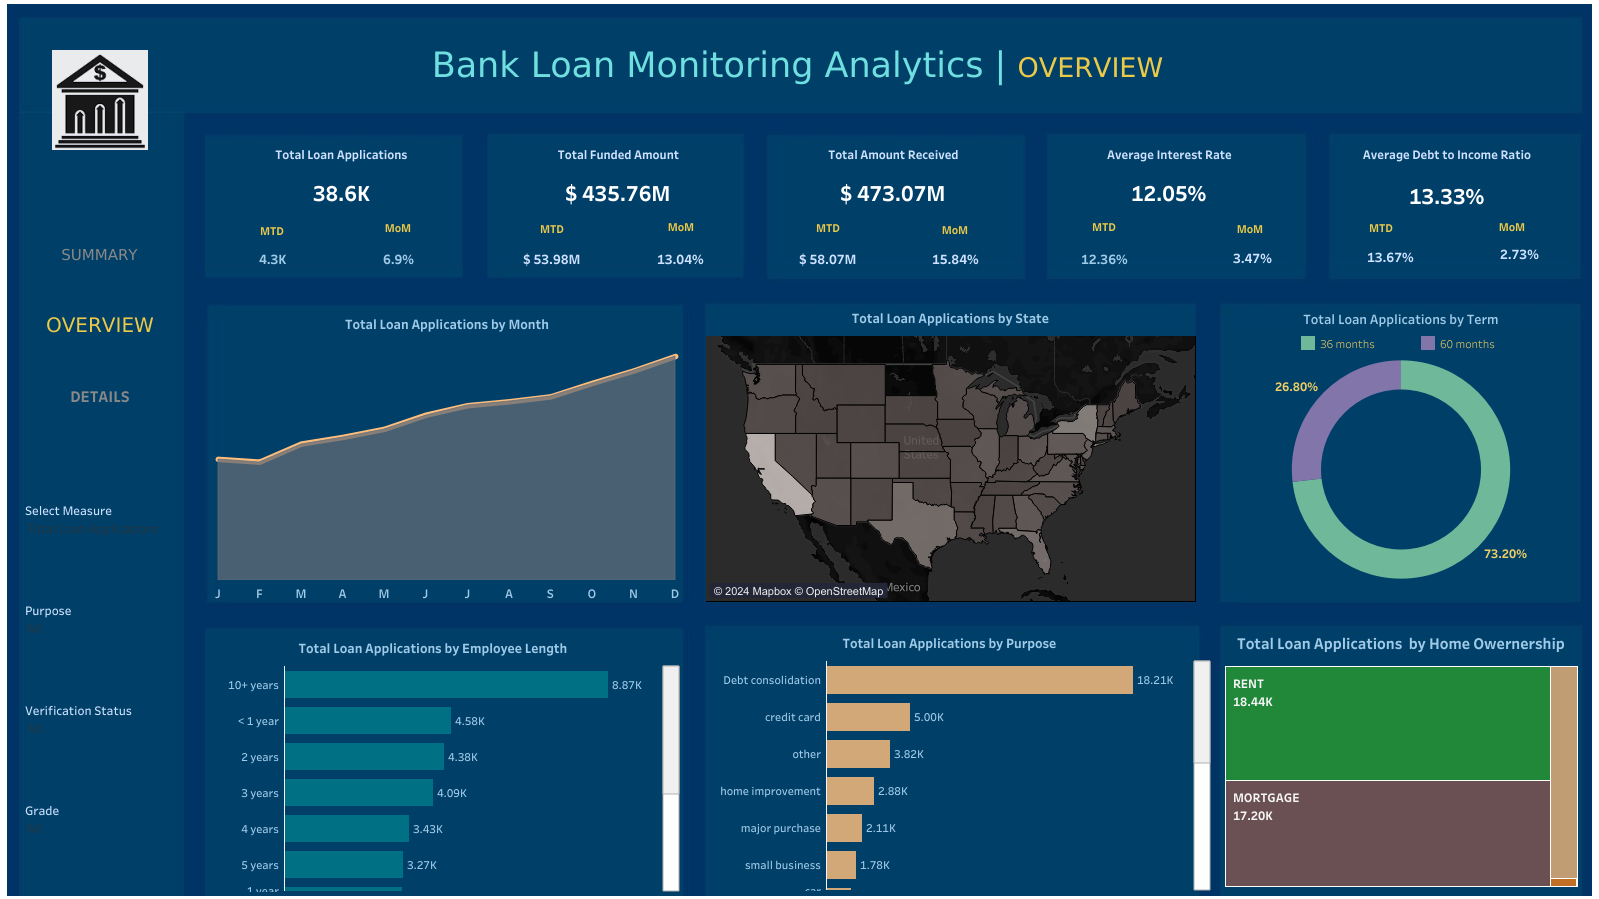

The dashboard page shown, as its layout file describes it:
{"tool":"tableau","page":{"name":"OVERVIEW","canvas":[1600,900],"ordinal":1},"visuals":[{"type":"image","param":"Image/teal bg.jpg","box":[0,0,1600,900]},{"type":"text","box":[19,15,1557,100]},{"type":"image","param":"Image/images.png","box":[40,50,120,100]},{"type":"worksheet","title":"Total Loan Applications","mark":"Automatic","box":[216,139,251,74]},{"type":"worksheet","title":"Total Funded Amount","mark":"Automatic","box":[493,139,251,74]},{"type":"worksheet","title":"Total Amount Received ","mark":"Automatic","box":[768,139,251,74]},{"type":"worksheet","title":"Average Interest Rate","mark":"Automatic","box":[1044,139,251,74]},{"type":"worksheet","title":"Average Debt to Income Ratio","mark":"Automatic","box":[1321,139,252,81]},{"type":"text","box":[636,214,90,25]},{"type":"text","box":[1059,214,90,25]},{"type":"text","box":[1467,214,90,25]},{"type":"text","box":[353,215,90,25]},{"type":"text","box":[783,215,90,25]},{"type":"text","box":[1336,215,90,25]},{"type":"text","box":[507,216,90,25]},{"type":"text","box":[1205,216,90,25]},{"type":"text","box":[910,217,90,25]},{"type":"text","box":[227,218,90,25]},{"type":"dashboard-object","box":[20,230,160,50]},{"type":"worksheet","title":"MoM Average Debt to Income Ratio","mark":"Automatic","box":[1460,231,119,46]},{"type":"worksheet","title":"MTD Average Debt to Income Ratio","mark":"Automatic","box":[1331,234,119,46]},{"type":"worksheet","title":"MoM Average Interest Rate","mark":"Automatic","box":[1193,235,119,46]},{"type":"worksheet","title":" MTD Total Loan Applications ","mark":"Automatic","box":[214,236,119,46]},{"type":"worksheet","title":"MoM Total Loan Applications","mark":"Automatic","box":[340,236,119,46]},{"type":"worksheet","title":"MTD Total Funded Amount","mark":"Automatic","box":[493,236,119,46]},{"type":"worksheet","title":"MoM Total Funded Amount","mark":"Automatic","box":[621,236,119,46]},{"type":"worksheet","title":"MTD Total Amount Received","mark":"Automatic","box":[769,236,119,46]},{"type":"worksheet","title":"MoM Total Amount Received","mark":"Automatic","box":[896,236,119,46]},{"type":"worksheet","title":"MTD Average Interest Rate","mark":"Automatic","box":[1045,236,119,46]},{"type":"dashboard-object","box":[20,300,160,50]},{"type":"worksheet","title":"State","mark":"Multipolygon","box":[706,302,489,299]},{"type":"worksheet","title":"Term","mark":"Pie","rows":["Calculation_627689214349299714","Calculation_627689214349299714"],"box":[1221,303,360,299]},{"type":"worksheet","title":"Month Trend","mark":"Automatic","rows":["Calculation_627689214335807488","Calculation_627689214335807488"],"cols":["issue_date"],"box":[197,308,500,294]},{"type":"legend","title":"Term","param":"[federated.1uwvali1n985jl11m84su1rpirvq].[none:term:nk]","box":[1298,333,247,19]},{"type":"dashboard-object","box":[20,370,160,50]},{"type":"parameter","param":"[Parameters].[Parameter 1]","box":[25,500,150,50]},{"type":"filter","title":" MTD Total Loan Applications ","param":"[federated.1uwvali1n985jl11m84su1rpirvq].[none:purpose:nk]","box":[25,600,150,50]},{"type":"worksheet","title":"Home Owernership","mark":"Automatic","box":[1221,626,360,264]},{"type":"worksheet","title":"Purpose","mark":"Automatic","rows":["purpose"],"cols":["Calculation_627689214335807488"],"box":[706,627,505,263]},{"type":"worksheet","title":"Employee Length","mark":"Automatic","rows":["emp_length"],"cols":["Calculation_627689214335807488"],"box":[204,632,476,259]},{"type":"filter","title":" MTD Total Loan Applications ","param":"[federated.1uwvali1n985jl11m84su1rpirvq].[none:verification_status:nk]","box":[25,700,150,50]},{"type":"filter","title":" MTD Total Loan Applications ","param":"[federated.1uwvali1n985jl11m84su1rpirvq].[none:grade:nk]","box":[25,800,150,50]}]}

Visuals, with their boxes in screenshot pixels (x1, y1, x2, y2), scaled from the page's 1600x900 canvas onto the 1599x899 screenshot:
image: 0,0,1598,898
text: 19,15,1575,115
image: 40,50,160,150
"Total Loan Applications" worksheet: 216,139,467,213
"Total Funded Amount" worksheet: 493,139,744,213
"Total Amount Received " worksheet: 768,139,1018,213
"Average Interest Rate" worksheet: 1043,139,1294,213
"Average Debt to Income Ratio" worksheet: 1320,139,1572,220
text: 636,214,726,239
text: 1058,214,1148,239
text: 1466,214,1556,239
text: 353,215,443,240
text: 783,215,872,240
text: 1335,215,1425,240
text: 507,216,597,241
text: 1204,216,1294,241
text: 909,217,999,242
text: 227,218,317,243
dashboard-object: 20,230,180,280
"MoM Average Debt to Income Ratio" worksheet: 1459,231,1578,277
"MTD Average Debt to Income Ratio" worksheet: 1330,234,1449,280
"MoM Average Interest Rate" worksheet: 1192,235,1311,281
" MTD Total Loan Applications " worksheet: 214,236,333,282
"MoM Total Loan Applications" worksheet: 340,236,459,282
"MTD Total Funded Amount" worksheet: 493,236,612,282
"MoM Total Funded Amount" worksheet: 621,236,740,282
"MTD Total Amount Received" worksheet: 769,236,887,282
"MoM Total Amount Received" worksheet: 895,236,1014,282
"MTD Average Interest Rate" worksheet: 1044,236,1163,282
dashboard-object: 20,300,180,350
"State" worksheet (Multipolygon marks): 706,302,1194,600
"Term" worksheet (Pie marks): 1220,303,1580,601
"Month Trend" worksheet: 197,308,697,601
"Term" legend: 1297,333,1544,352
dashboard-object: 20,370,180,420
parameter: 25,499,175,549
" MTD Total Loan Applications " filter: 25,599,175,649
"Home Owernership" worksheet: 1220,625,1580,889
"Purpose" worksheet: 706,626,1210,889
"Employee Length" worksheet: 204,631,680,890
" MTD Total Loan Applications " filter: 25,699,175,749
" MTD Total Loan Applications " filter: 25,799,175,849
